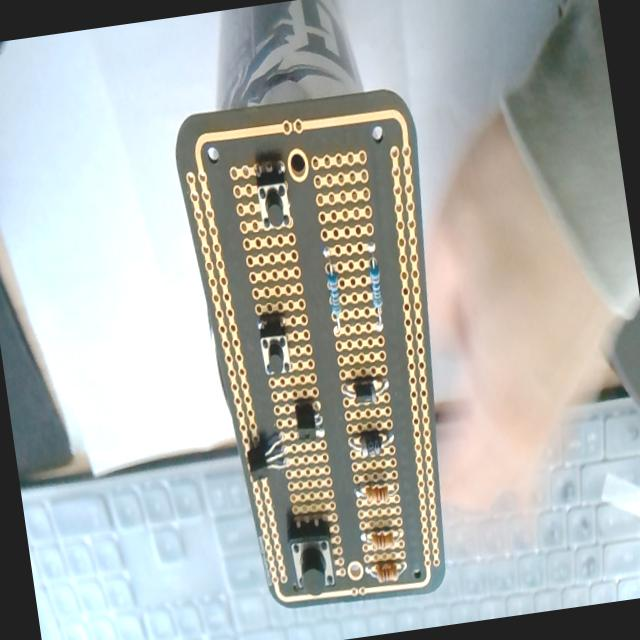diode: (331, 356, 398, 414), (344, 414, 404, 461)
resistor: (356, 232, 394, 342), (354, 508, 412, 562), (356, 545, 416, 591), (352, 466, 407, 514), (321, 246, 348, 342)
switch: (282, 519, 344, 612), (251, 156, 300, 240), (254, 316, 300, 390)
transistor: (238, 419, 299, 491), (287, 391, 333, 456)
